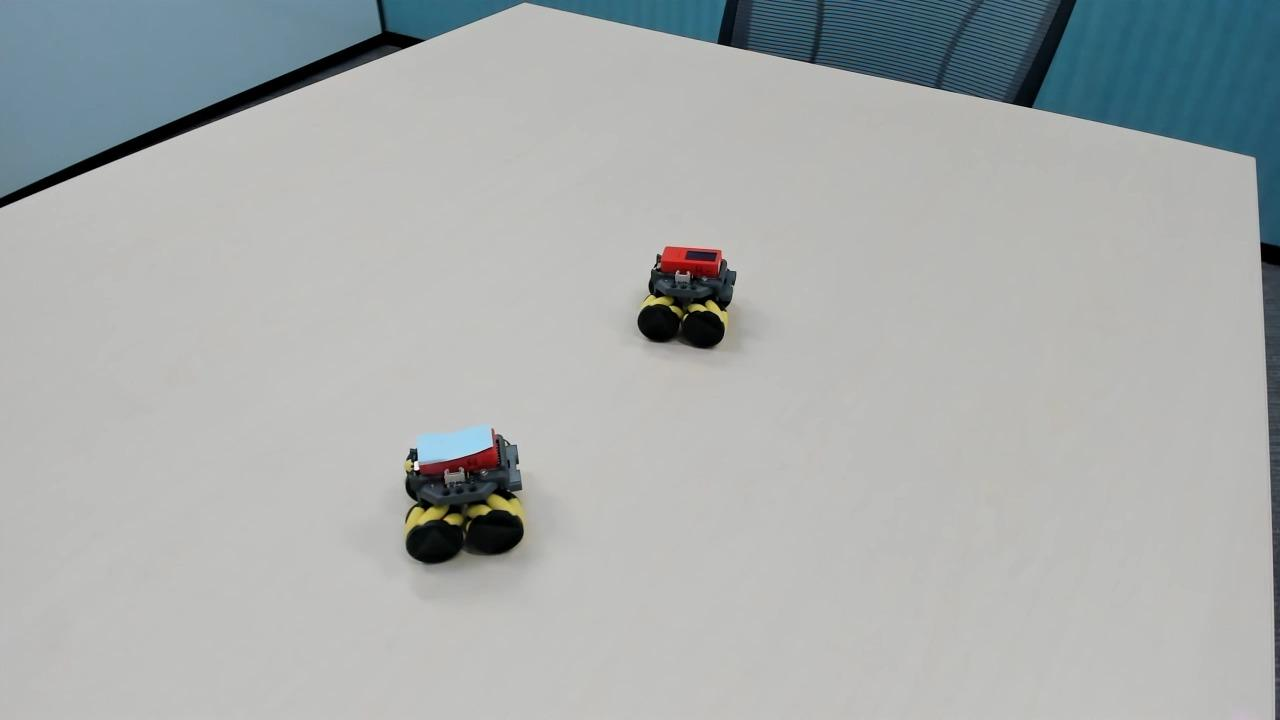B-Robot: (381, 408, 536, 566)
R-Robot: (623, 224, 749, 359)
